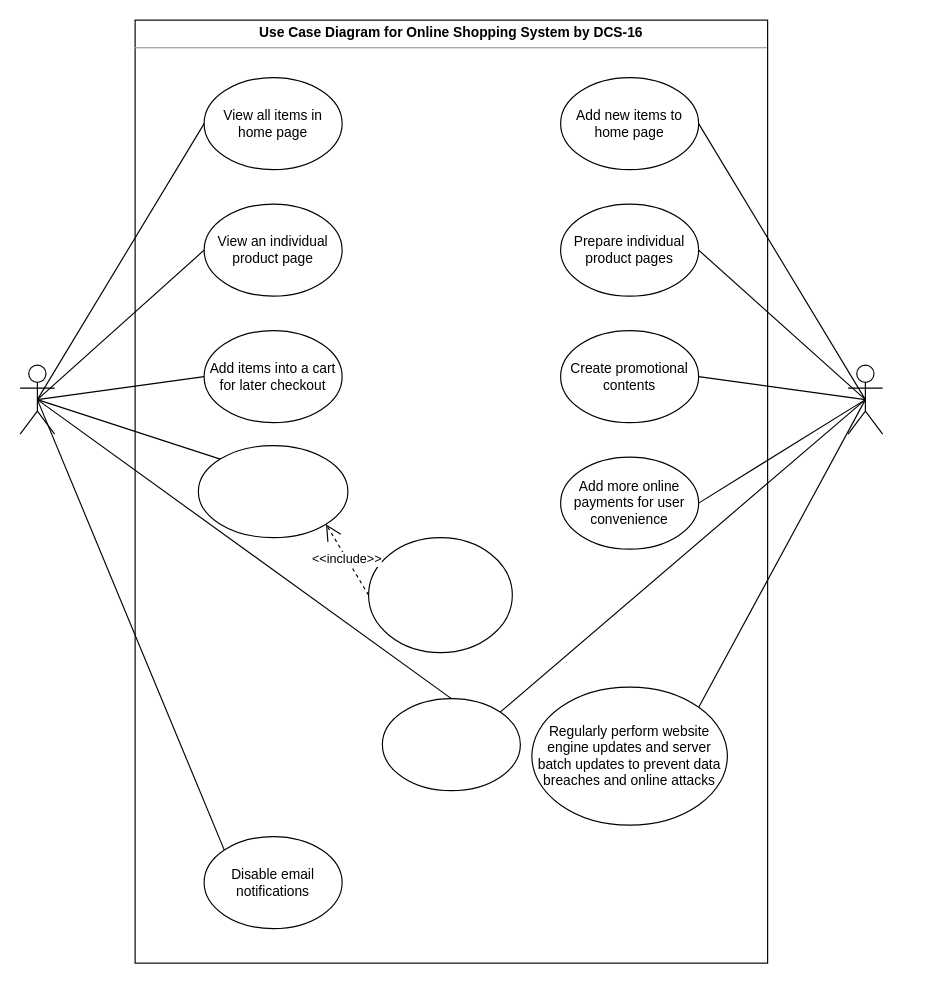
Image size: 942x983. Some labels were removed from this diagram. The centre of each missing label's shape, as x and y in pixels:
Enable email notification for out of stock or upcoming products: (x=450, y=744)
Make payments with online payment systems: (x=272, y=491)
Payment successful only if the account has sufficient amount: (x=439, y=594)
User: (x=37, y=399)
Webmaster/Admin: (x=865, y=399)
